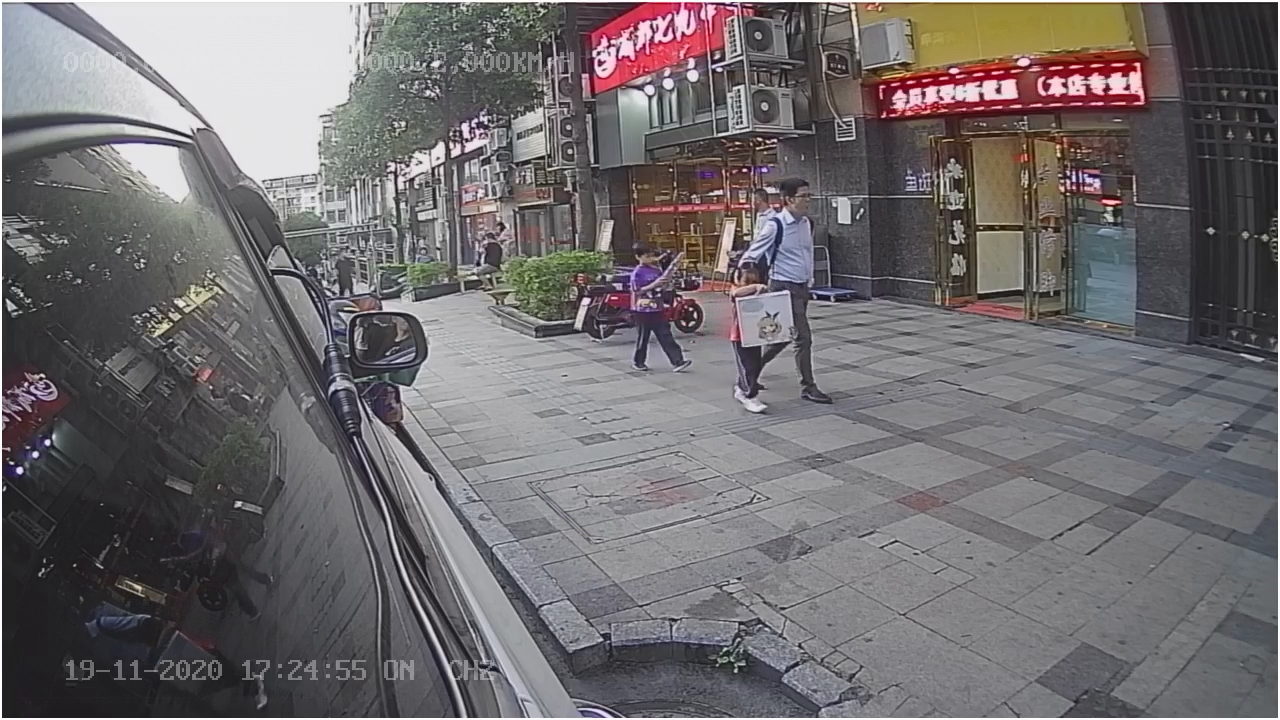person: (625, 236, 693, 380), (761, 175, 828, 299)
